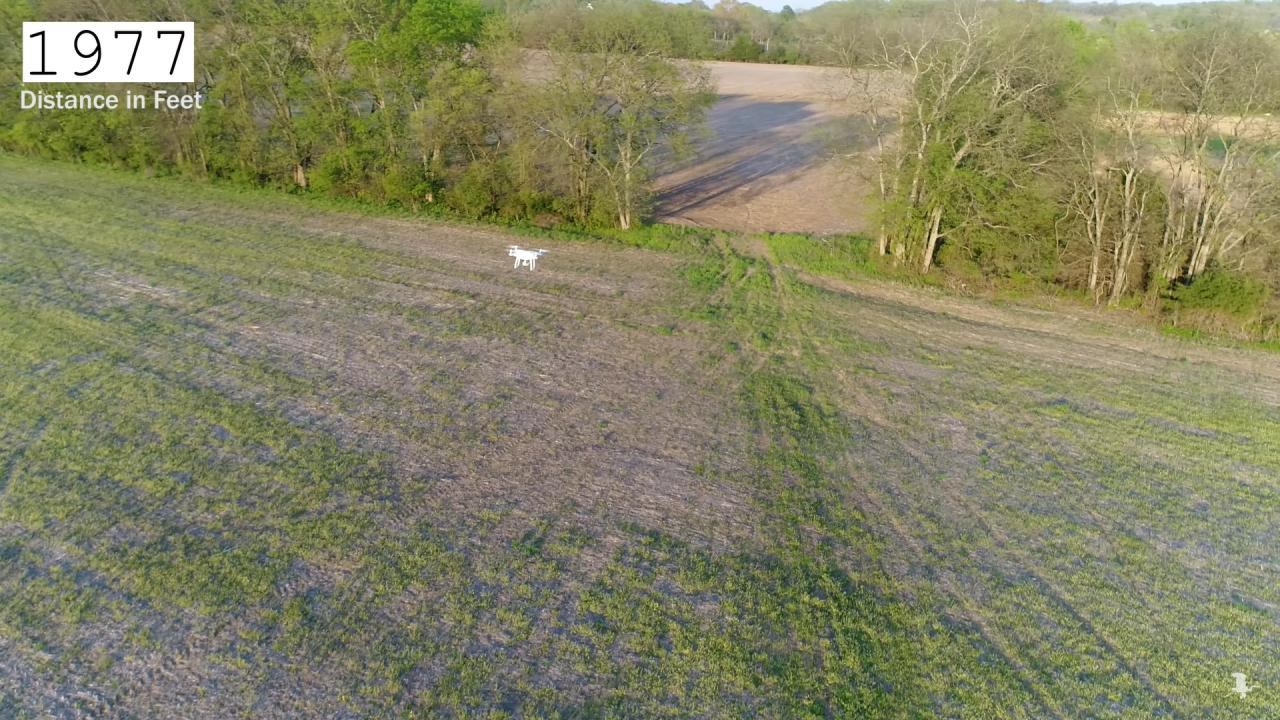Drone: (497, 234, 556, 281)
